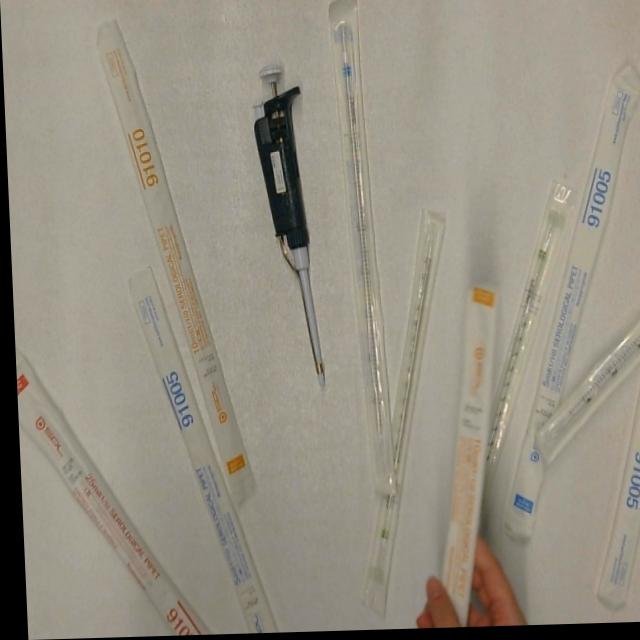Serelogical Pipet 10 mL - Sealed: (93, 16, 255, 510), (417, 279, 511, 631)
Serelogical Pipet 2 mL - Sealed: (339, 206, 461, 623), (451, 178, 588, 539)
Serelogical Pipet 25 mL - Sealed: (12, 341, 211, 640)
Serelogical Pipet 5 mL - Sealed: (479, 64, 640, 547), (124, 259, 277, 637), (329, 0, 396, 506), (521, 305, 640, 473), (582, 353, 640, 618)
Single Channel Pipettor: (247, 51, 327, 398)
